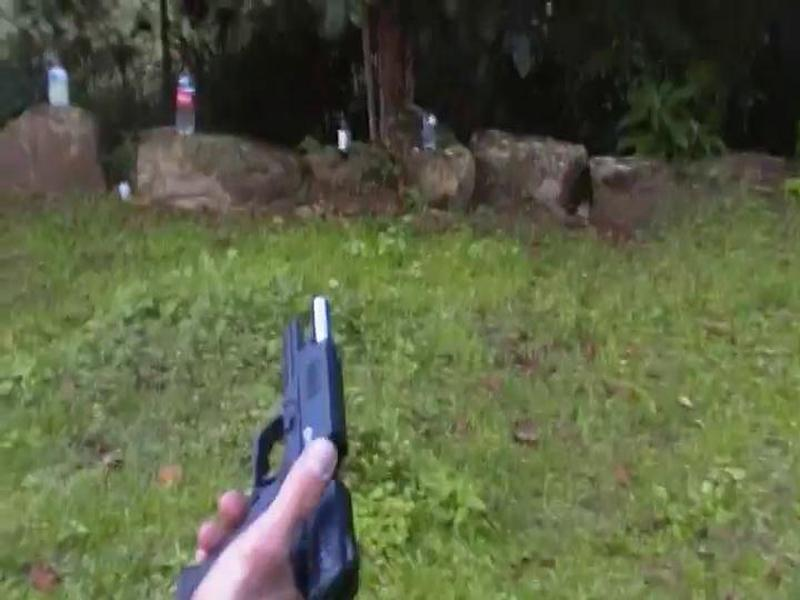Pistola: (173, 299, 372, 600)
